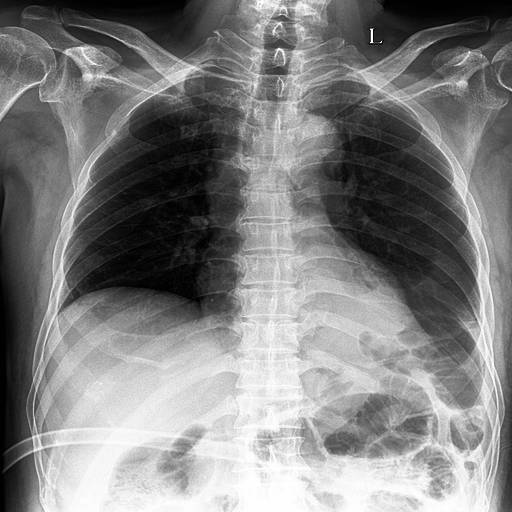Pleural effusion: (298, 245, 491, 387), (405, 272, 504, 349)
